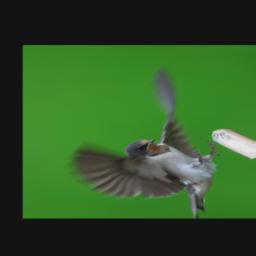Swallow: (59, 65, 235, 215)
